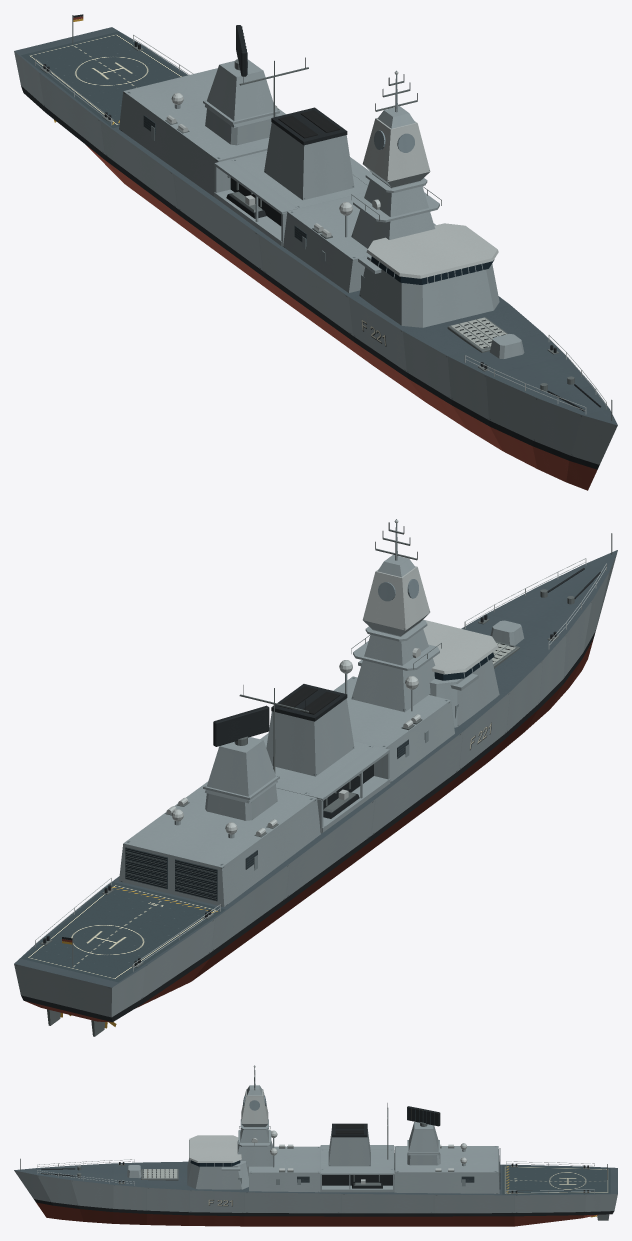
The model's file is hull_f124.glb.
3 renders of one model, top to bottom at view 1: azimuth 30°, elevation 25°; view 2: azimuth 150°, elevation 25°; view 3: azimuth 270°, elevation 25°, orthographic. The views are drawn at different scales.
Parts seen in each view (by area): view 1: MESH_F124_HULL.002_F124_PaintedSteel_UV.026, MESH_F124_HULL.002_F124_FlightDeck_UV.006; view 2: MESH_F124_HULL.002_F124_PaintedSteel_UV.026, MESH_F124_HULL.002_F124_FlightDeck_UV.006; view 3: MESH_F124_HULL.002_F124_PaintedSteel_UV.026, MESH_F124_HULL.002_F124_FlightDeck_UV.006.
Boxes of the visible parts, box(x1,y1,x2,y2) form: MESH_F124_HULL.002_F124_PaintedSteel_UV.026: box(14, 14, 617, 490); MESH_F124_HULL.002_F124_FlightDeck_UV.006: box(21, 31, 186, 128); MESH_F124_HULL.002_F124_PaintedSteel_UV.026: box(14, 519, 617, 1036); MESH_F124_HULL.002_F124_FlightDeck_UV.006: box(21, 882, 225, 982); MESH_F124_HULL.002_F124_PaintedSteel_UV.026: box(14, 1065, 617, 1226); MESH_F124_HULL.002_F124_FlightDeck_UV.006: box(502, 1164, 610, 1194).
Size of the model in its own units: 17.4 by 39.8 by 143.
3 materials, 3 textured.
